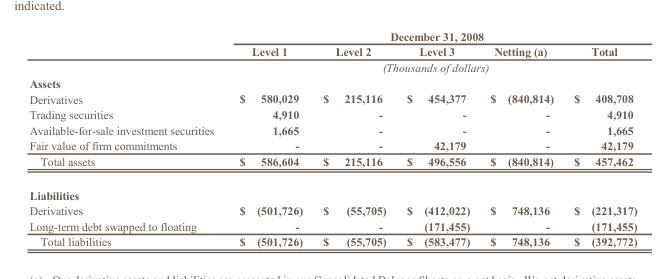table: (28, 29, 636, 247)
table column: (28, 29, 225, 247), (225, 29, 312, 247), (395, 29, 479, 247), (479, 29, 563, 247), (312, 29, 395, 247), (563, 29, 636, 247)
table column header: (28, 29, 636, 75)
table projected row header: (28, 177, 636, 202), (28, 75, 636, 90)
table row: (28, 177, 636, 202), (28, 153, 636, 177), (28, 43, 636, 59), (28, 59, 636, 75), (28, 90, 636, 106), (28, 106, 636, 122), (28, 137, 636, 153), (28, 202, 636, 218), (28, 75, 636, 90), (28, 122, 636, 137), (28, 218, 636, 233), (28, 29, 636, 43), (28, 233, 636, 247)
table spanning cell: (225, 59, 636, 75), (225, 29, 636, 43)
